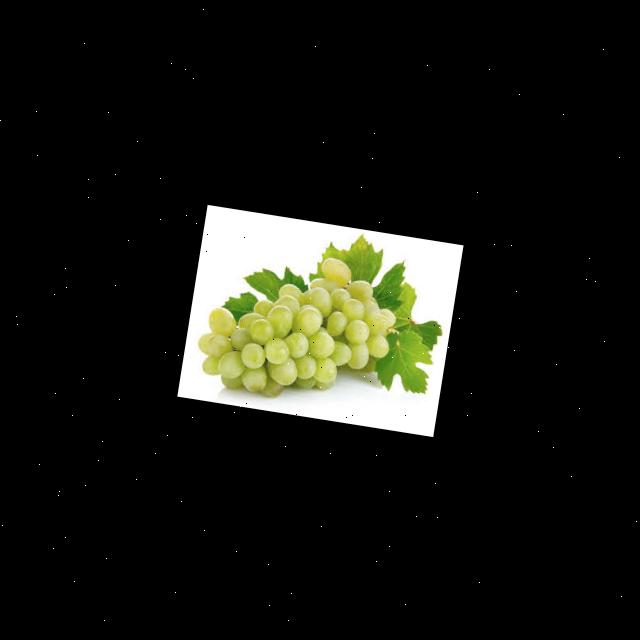grape: (190, 237, 404, 413)
